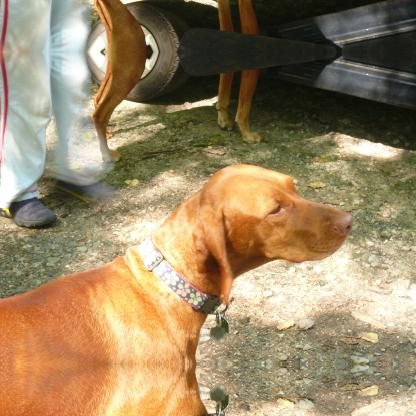Dog: (0, 165, 352, 363), (92, 52, 266, 162), (0, 365, 353, 415), (92, 0, 267, 53)
